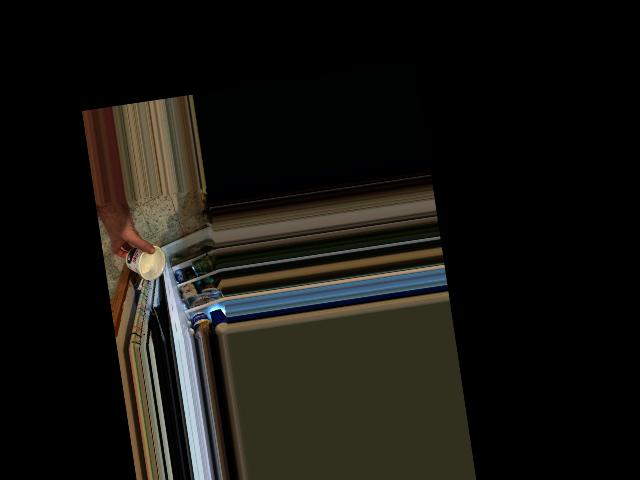cotage: (121, 240, 168, 284)
